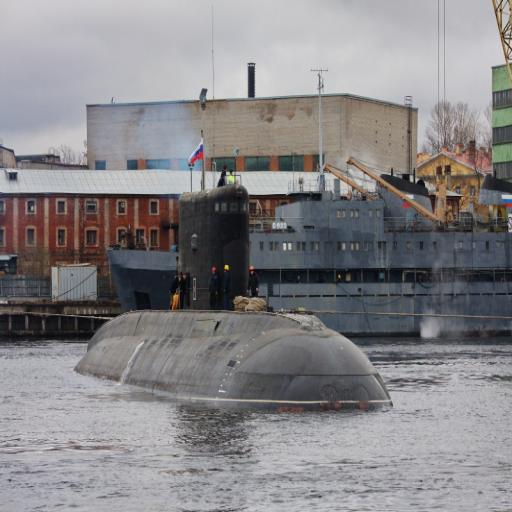submarine: (74, 190, 396, 413)
